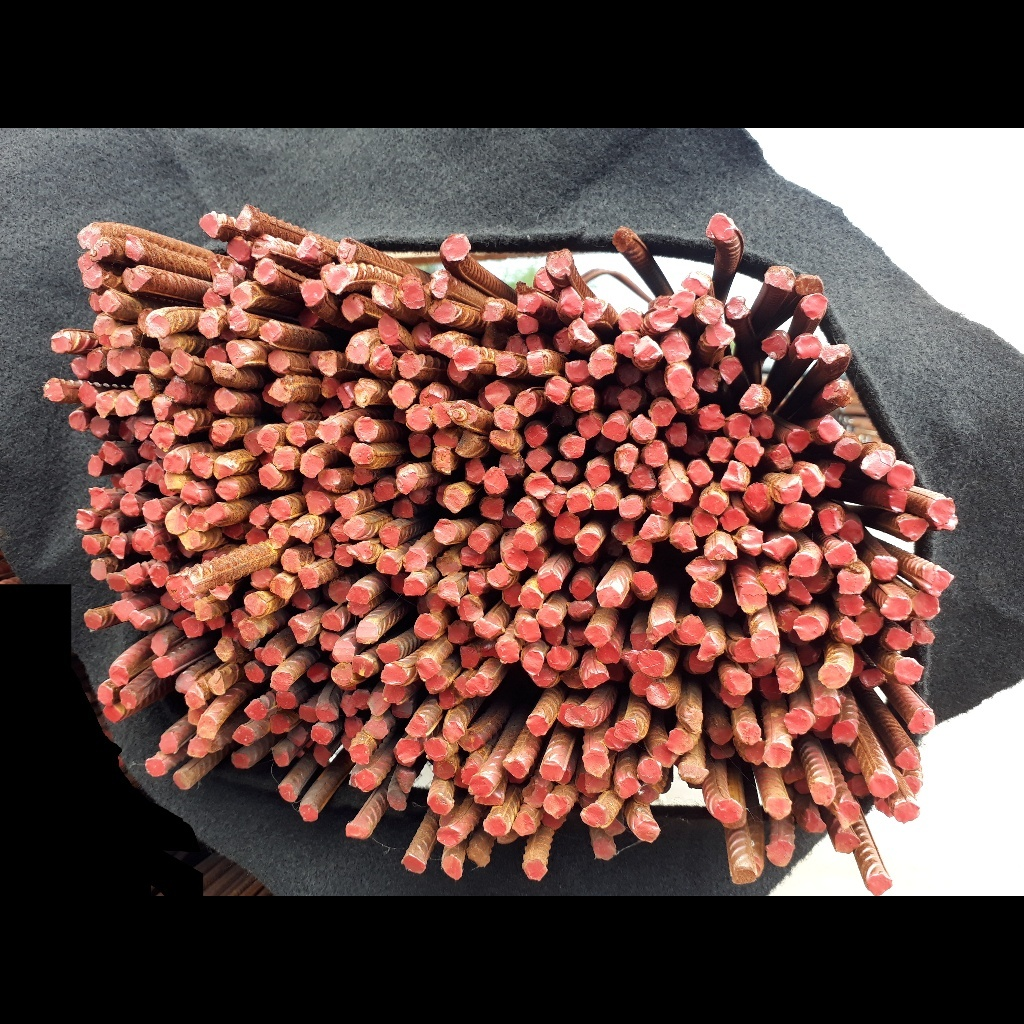dipstick: (396, 273, 426, 309), (861, 447, 893, 479), (720, 459, 750, 493), (638, 512, 672, 540), (739, 583, 768, 615), (707, 212, 740, 240), (694, 296, 725, 325), (739, 382, 772, 409), (823, 379, 853, 408), (751, 629, 780, 659), (762, 536, 796, 561), (689, 508, 719, 536), (441, 234, 471, 262), (666, 367, 693, 398), (636, 651, 667, 678), (685, 556, 717, 582), (825, 542, 858, 567), (927, 497, 956, 525), (669, 523, 697, 552), (429, 271, 457, 300), (122, 266, 151, 294), (869, 554, 899, 581), (908, 706, 935, 736), (543, 793, 573, 820), (681, 270, 712, 296), (454, 431, 485, 457), (764, 266, 796, 291), (165, 575, 193, 603), (663, 335, 690, 364), (679, 615, 706, 644), (581, 751, 610, 778), (756, 569, 786, 595), (743, 483, 769, 513), (578, 298, 608, 324), (613, 443, 638, 474), (546, 248, 571, 279), (678, 762, 710, 786), (887, 463, 915, 490), (881, 594, 909, 621), (909, 617, 936, 645), (818, 662, 846, 689), (837, 616, 864, 644), (760, 333, 787, 361), (705, 436, 733, 463), (650, 400, 677, 428), (686, 458, 713, 486), (567, 320, 594, 348), (482, 466, 509, 494), (405, 403, 432, 431), (899, 516, 928, 542), (530, 661, 559, 687), (452, 346, 481, 372), (894, 659, 924, 684), (782, 503, 812, 528), (688, 580, 718, 605), (447, 401, 477, 426), (792, 617, 823, 641), (718, 508, 749, 532), (695, 366, 722, 393), (629, 414, 656, 441), (665, 729, 692, 756), (817, 416, 845, 442), (553, 513, 581, 539), (663, 477, 692, 502), (794, 274, 824, 298), (784, 710, 814, 734), (799, 467, 823, 497), (646, 619, 676, 643), (627, 466, 657, 490), (354, 377, 377, 408), (801, 294, 828, 320), (838, 568, 865, 594), (641, 441, 668, 467), (697, 634, 724, 660), (626, 536, 653, 562), (484, 380, 511, 406), (324, 268, 350, 295), (766, 841, 794, 866), (715, 797, 743, 822), (396, 351, 421, 379), (388, 384, 416, 409), (300, 280, 325, 308), (189, 451, 214, 479), (126, 415, 154, 440), (762, 743, 791, 767), (670, 290, 694, 319), (699, 491, 728, 515), (428, 300, 457, 324), (378, 313, 399, 346), (720, 356, 743, 386), (489, 429, 519, 452), (431, 445, 453, 476), (631, 571, 657, 597), (613, 718, 639, 744), (604, 725, 630, 751), (558, 287, 584, 313), (541, 491, 567, 517), (414, 613, 440, 639), (305, 490, 331, 516), (787, 580, 812, 607), (726, 669, 753, 694), (581, 803, 608, 828), (492, 407, 519, 432), (456, 596, 483, 621), (213, 387, 238, 414), (892, 800, 920, 824), (739, 528, 763, 556), (650, 307, 678, 331), (169, 347, 193, 375), (198, 307, 219, 339), (833, 438, 862, 461), (833, 830, 862, 853), (776, 666, 799, 695), (586, 356, 615, 379), (419, 382, 448, 405), (122, 233, 145, 262), (914, 591, 939, 617), (831, 720, 857, 745), (856, 611, 882, 636), (786, 429, 812, 454), (724, 295, 750, 320), (726, 414, 751, 440), (759, 676, 784, 702), (734, 636, 759, 662), (699, 404, 724, 430), (708, 720, 733, 746), (545, 379, 570, 405), (521, 784, 547, 809), (402, 547, 428, 572), (353, 416, 378, 442), (210, 419, 235, 445), (150, 425, 175, 451), (789, 553, 816, 577), (584, 465, 611, 489), (635, 820, 662, 844), (869, 773, 897, 796), (865, 873, 893, 896), (818, 508, 841, 536), (526, 476, 554, 499), (331, 663, 359, 686), (886, 628, 915, 650), (746, 655, 775, 677), (705, 325, 735, 346), (465, 455, 486, 485), (688, 649, 713, 674), (637, 759, 662, 784), (396, 739, 421, 764), (258, 464, 283, 489), (98, 441, 123, 466), (795, 336, 821, 360), (749, 414, 773, 440), (635, 337, 661, 361), (646, 681, 672, 705), (571, 386, 595, 412), (594, 641, 620, 665), (545, 647, 571, 671), (512, 811, 536, 837), (443, 488, 467, 514), (433, 519, 457, 545), (340, 296, 364, 322), (346, 338, 370, 364), (226, 236, 250, 262), (119, 468, 143, 494), (837, 800, 860, 827), (734, 721, 761, 744), (535, 571, 562, 594), (525, 449, 552, 472), (370, 344, 393, 371), (253, 259, 276, 286), (242, 429, 264, 457), (800, 570, 829, 591), (574, 770, 595, 799), (565, 707, 594, 728), (896, 747, 920, 772), (735, 442, 759, 467), (424, 737, 448, 762), (355, 620, 379, 645), (296, 235, 320, 260), (244, 593, 269, 617), (775, 609, 801, 632), (630, 673, 656, 696), (653, 744, 679, 767), (522, 650, 545, 676), (496, 638, 519, 664), (517, 586, 543, 609), (514, 392, 537, 418), (437, 581, 460, 607), (371, 281, 394, 307), (314, 420, 340, 443), (288, 521, 314, 544), (164, 376, 187, 402), (617, 496, 644, 518), (551, 461, 578, 483), (457, 730, 484, 752), (132, 373, 154, 400), (472, 618, 500, 639), (821, 343, 850, 363), (602, 418, 626, 442), (575, 532, 599, 556), (517, 290, 541, 314), (480, 497, 504, 521), (494, 352, 518, 376), (810, 782, 835, 805), (617, 389, 642, 412), (743, 740, 766, 765), (561, 436, 586, 459), (523, 859, 548, 882), (440, 855, 463, 880), (408, 433, 431, 458), (396, 470, 419, 495), (328, 580, 351, 605), (300, 455, 325, 478), (224, 343, 247, 368), (146, 314, 171, 337), (765, 798, 791, 820), (611, 226, 633, 252), (564, 360, 590, 382), (628, 630, 654, 652), (569, 579, 595, 601), (502, 582, 524, 608), (436, 555, 462, 577), (403, 715, 429, 737), (417, 659, 443, 681), (431, 402, 453, 428), (286, 421, 308, 447), (258, 427, 280, 453), (288, 617, 310, 643), (113, 396, 139, 418), (234, 202, 253, 232), (824, 461, 845, 488), (591, 491, 618, 512), (467, 775, 494, 796), (381, 664, 409, 684), (803, 809, 827, 832), (779, 481, 803, 504), (613, 333, 637, 356), (644, 370, 667, 394), (577, 415, 600, 439), (583, 625, 607, 648), (617, 776, 641, 799), (465, 673, 489, 696), (517, 619, 541, 642), (512, 501, 536, 524), (486, 563, 509, 587), (525, 425, 548, 449), (268, 378, 291, 402), (342, 515, 366, 538), (267, 350, 291, 373), (213, 637, 236, 661), (88, 487, 112, 510), (480, 300, 505, 322), (447, 359, 469, 384), (423, 673, 448, 695), (148, 564, 170, 589), (838, 594, 864, 615), (682, 707, 703, 733), (566, 600, 592, 621), (512, 531, 538, 552), (428, 337, 454, 358), (427, 794, 453, 815), (435, 826, 461, 847), (317, 351, 338, 377), (237, 620, 263, 641), (77, 381, 98, 407), (585, 773, 612, 793), (95, 392, 115, 419), (812, 697, 840, 716), (336, 381, 355, 409), (664, 424, 687, 447), (617, 362, 640, 385), (332, 640, 355, 663), (269, 498, 292, 521), (204, 345, 227, 368), (847, 773, 869, 797), (595, 587, 619, 609), (482, 814, 506, 836), (504, 549, 528, 571), (447, 620, 469, 644), (467, 846, 491, 868), (368, 692, 390, 716), (148, 351, 170, 375), (43, 379, 65, 403), (930, 566, 951, 591), (682, 433, 707, 454), (499, 455, 524, 476), (349, 443, 374, 464), (280, 548, 301, 573), (215, 481, 240, 502), (111, 601, 136, 622), (152, 395, 173, 420), (82, 264, 103, 289), (791, 647, 820, 665), (773, 443, 793, 469), (618, 310, 644, 330), (251, 234, 271, 260), (554, 327, 573, 354), (250, 569, 277, 588), (840, 520, 862, 543), (543, 624, 565, 647), (467, 532, 489, 555), (352, 656, 375, 678), (245, 698, 268, 720), (132, 529, 155, 551), (142, 498, 164, 521), (612, 518, 633, 542), (559, 666, 580, 690), (477, 638, 501, 659), (395, 769, 416, 793), (355, 769, 376, 793), (262, 384, 283, 408), (213, 272, 234, 296), (231, 725, 255, 746), (125, 562, 146, 586), (88, 241, 112, 262), (650, 494, 675, 514), (720, 687, 745, 707), (566, 493, 591, 513), (536, 608, 561, 628), (502, 759, 527, 779), (411, 323, 431, 348), (376, 643, 401, 663), (363, 719, 388, 739), (227, 306, 247, 331), (313, 534, 333, 559), (330, 517, 349, 543), (706, 742, 735, 759), (675, 388, 697, 410), (526, 715, 548, 737), (441, 721, 463, 743), (99, 291, 121, 313), (551, 406, 574, 427), (379, 526, 400, 549), (376, 554, 399, 575), (318, 469, 341, 490), (259, 320, 282, 341), (269, 578, 292, 599), (196, 716, 217, 739), (187, 704, 210, 725), (119, 494, 140, 517), (600, 538, 624, 558), (592, 842, 616, 862), (460, 547, 484, 567), (453, 673, 473, 697), (382, 684, 406, 704), (163, 454, 187, 474), (633, 786, 661, 803), (401, 855, 426, 874), (347, 541, 372, 560), (198, 214, 217, 239), (76, 230, 101, 249), (433, 429, 459, 447), (107, 351, 125, 377), (886, 491, 908, 512), (566, 626, 588, 647), (499, 508, 521, 529), (348, 744, 370, 765), (273, 449, 295, 470), (292, 589, 313, 611), (268, 524, 289, 546), (151, 657, 173, 678), (174, 414, 195, 436), (320, 376, 340, 399), (334, 544, 354, 567), (372, 482, 395, 502), (335, 495, 358, 515), (269, 672, 292, 692), (186, 513, 209, 533), (526, 546, 545, 570), (347, 586, 371, 605), (526, 351, 544, 376), (542, 811, 567, 829), (345, 715, 363, 740), (230, 284, 248, 309), (208, 670, 226, 695), (108, 330, 133, 348), (581, 671, 607, 688), (538, 763, 564, 780), (319, 630, 340, 651), (307, 662, 328, 683), (262, 645, 283, 666), (248, 504, 269, 525), (182, 617, 203, 638), (106, 573, 127, 594), (144, 463, 165, 484), (89, 416, 110, 437), (69, 357, 90, 378), (517, 314, 539, 334), (337, 240, 357, 262), (319, 612, 341, 632), (202, 288, 224, 308), (297, 569, 319, 589), (288, 725, 308, 747), (159, 733, 179, 755), (174, 674, 196, 694), (75, 509, 95, 531), (179, 530, 201, 550), (166, 514, 188, 534), (180, 482, 200, 504), (119, 350, 141, 370), (557, 704, 576, 727), (459, 646, 478, 669), (437, 686, 456, 709), (150, 633, 169, 656), (102, 704, 125, 723), (128, 610, 151, 629), (107, 536, 126, 559), (860, 668, 884, 686), (468, 571, 486, 595), (211, 360, 236, 377), (118, 420, 135, 445), (604, 661, 624, 682), (473, 792, 503, 806), (392, 698, 413, 718), (227, 262, 248, 282), (269, 714, 290, 734), (244, 662, 264, 683), (109, 666, 130, 686), (171, 610, 192, 630), (81, 534, 101, 555), (207, 253, 227, 274), (433, 761, 455, 780), (392, 499, 414, 518), (311, 726, 333, 745), (245, 526, 267, 545), (186, 739, 208, 758), (138, 440, 157, 462), (782, 766, 805, 784), (536, 268, 554, 291), (340, 694, 358, 717), (316, 704, 339, 722), (86, 454, 104, 477), (848, 654, 865, 678), (403, 579, 427, 596), (391, 570, 407, 595), (345, 823, 370, 839), (194, 601, 214, 621), (138, 308, 154, 333), (275, 691, 296, 710), (160, 593, 181, 612), (77, 252, 96, 273), (602, 818, 624, 836), (320, 399, 342, 417), (313, 745, 331, 767), (96, 684, 114, 706), (85, 350, 103, 372), (408, 486, 431, 503), (221, 522, 244, 539), (208, 583, 231, 600), (346, 603, 372, 618), (427, 592, 446, 612), (387, 792, 407, 811), (352, 689, 371, 709), (336, 436, 356, 455), (172, 770, 192, 789), (146, 758, 166, 777), (353, 468, 374, 486), (298, 705, 319, 723), (272, 747, 290, 768), (203, 507, 224, 525), (119, 689, 137, 710), (151, 544, 172, 562), (100, 518, 121, 536), (157, 479, 178, 497), (571, 549, 596, 564), (505, 335, 527, 352), (181, 595, 204, 611), (222, 623, 241, 642), (83, 611, 102, 630), (496, 828, 520, 843), (302, 477, 322, 495), (277, 784, 297, 802), (90, 560, 108, 580), (94, 317, 114, 335), (812, 714, 833, 731), (214, 463, 236, 479), (904, 775, 922, 794), (876, 799, 894, 818), (844, 754, 862, 773), (282, 403, 300, 422), (299, 805, 319, 822), (185, 692, 205, 709), (69, 411, 86, 431), (159, 335, 180, 351), (786, 631, 808, 646), (165, 474, 187, 489), (49, 337, 71, 352), (461, 766, 478, 785), (231, 609, 248, 627), (231, 753, 250, 769), (89, 291, 103, 312), (526, 334, 543, 351), (558, 765, 572, 784), (240, 639, 262, 651), (604, 388, 619, 405), (394, 406, 408, 424), (207, 616, 225, 630), (655, 296, 672, 309), (434, 486, 443, 508), (795, 781, 809, 795), (416, 597, 427, 614), (98, 333, 111, 347), (310, 351, 320, 369), (341, 735, 352, 750), (254, 648, 262, 662)
